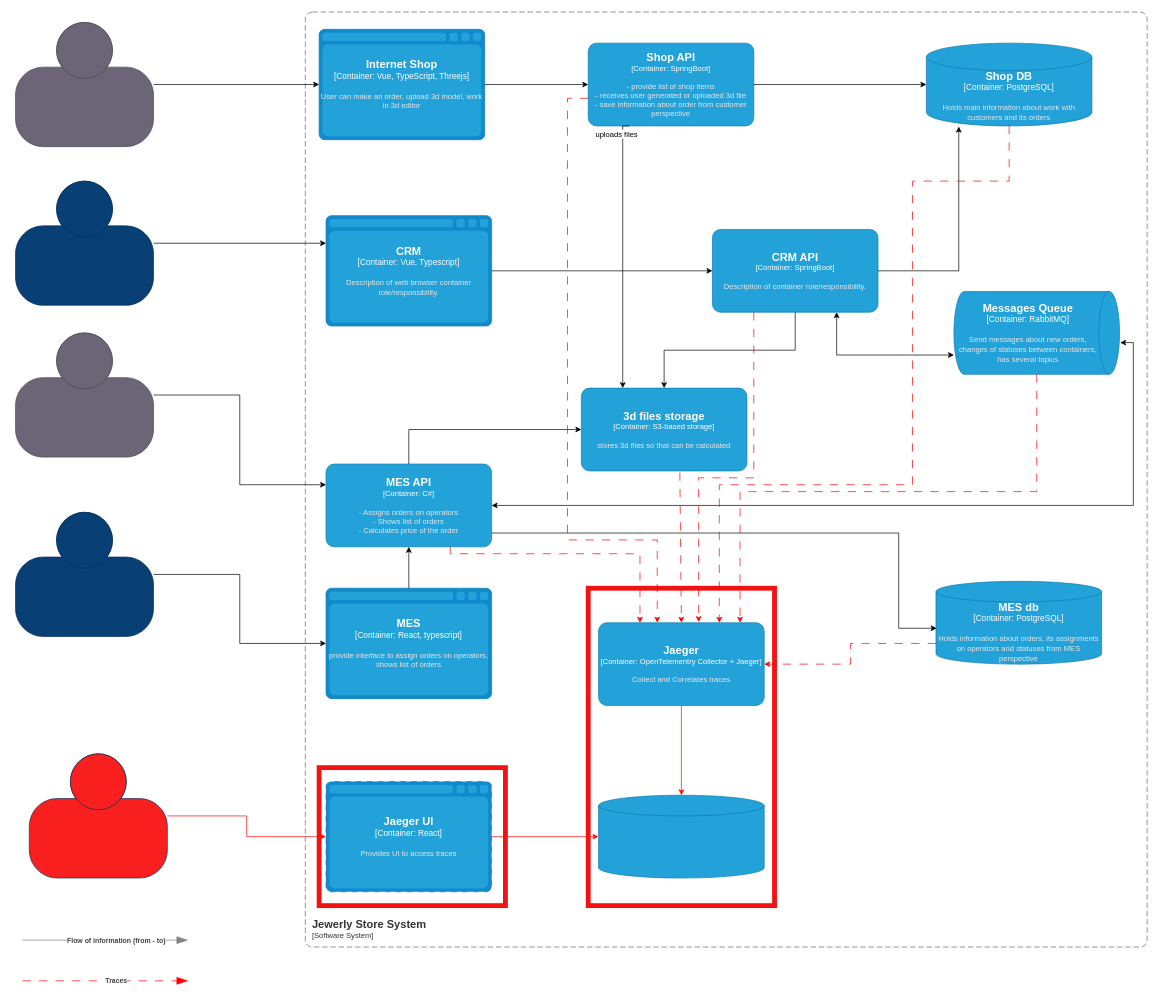
Some shapes in this 1159 by 1004 pixel diagram are drawn without their labels. Here are the shapes that lost their labels. From the top down, the box of each, then its label:
(15, 22, 154, 147): Customer [Person] Description of external person.
(15, 180, 154, 305): Seller [Person] Operates with order, confirms manufacturing for the user
(15, 332, 154, 457): API user [Person] Description of external person.
(15, 512, 154, 637): Operator [Person] Takes order in work, manufactures jewerly
(29, 753, 167, 878): Support [Person] Takes order in work, manufactures jewerly
(598, 795, 764, 878): Trace db [Container: Cassandra or ElasticSearch] Traces
